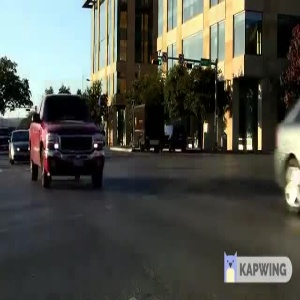truck: (20, 88, 117, 192)
